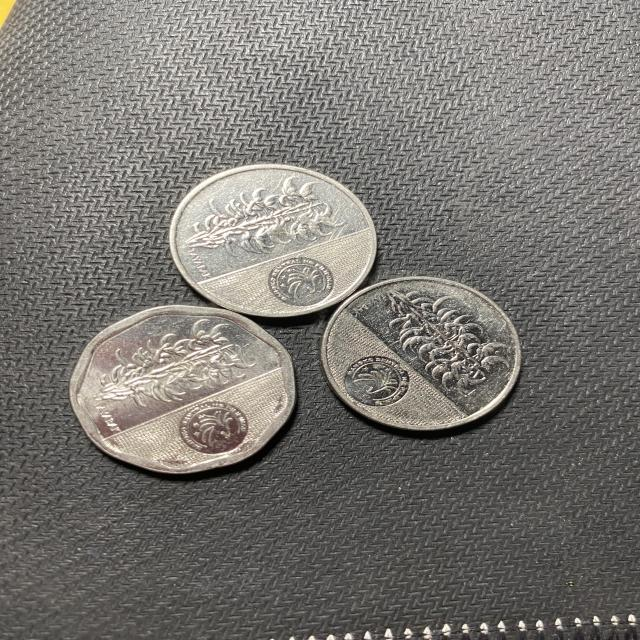5_New_Back: (105, 313, 240, 408), (389, 293, 506, 392), (188, 179, 336, 250)
